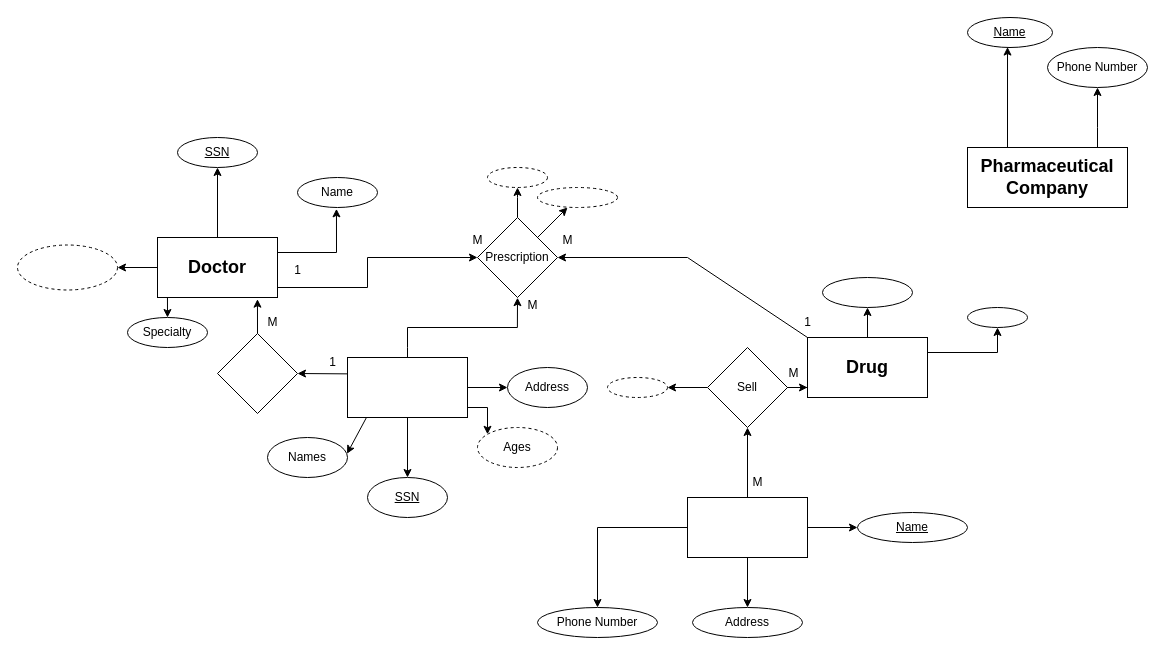
Image size: 1165x655. Some labels were removed from this diagram. Here are the shapes that lost their labels. From the top down, the centre of each, then its label:
At [517,177]: "Date".
At [577,197]: "Quantity".
At [67,267]: "Year of Experiance".
At [867,292]: "Trade Name".
At [997,317]: "Formula".
At [257,373]: "Has".
At [407,387]: "Patient".
At [637,387]: "Price".
At [747,527]: "Pharmacy".
